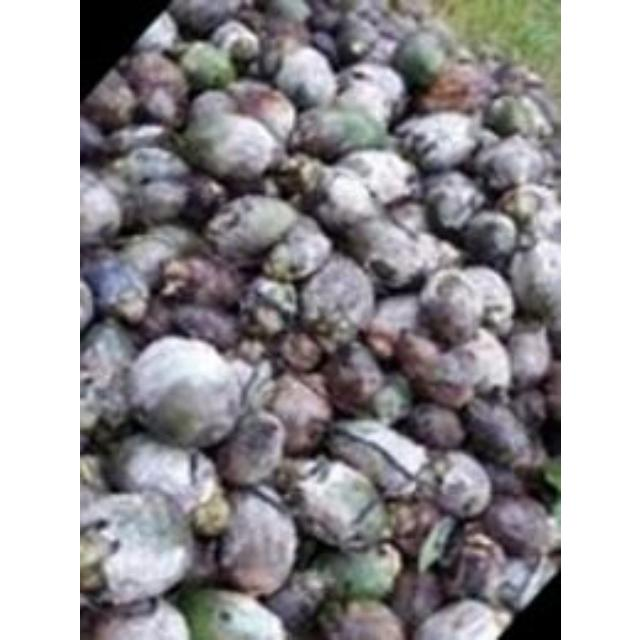damaged: (125, 334, 248, 448), (82, 490, 195, 604), (209, 484, 299, 592), (288, 456, 390, 550), (171, 102, 281, 188), (102, 433, 216, 512), (326, 418, 428, 498), (106, 146, 194, 228), (205, 194, 298, 266), (175, 586, 283, 640), (113, 223, 199, 290), (392, 110, 480, 173), (416, 448, 492, 520), (262, 376, 332, 452), (292, 106, 390, 160), (317, 342, 385, 414), (160, 252, 244, 310), (334, 150, 416, 207), (80, 251, 146, 321), (439, 530, 506, 598), (316, 544, 400, 598), (463, 398, 531, 464), (310, 168, 380, 232), (446, 330, 510, 400), (472, 134, 550, 190), (419, 172, 485, 238), (268, 44, 336, 108), (416, 274, 478, 342), (508, 240, 558, 324), (225, 82, 295, 142), (331, 65, 404, 122), (451, 264, 514, 330), (80, 319, 140, 385), (240, 278, 302, 340), (480, 496, 546, 554), (492, 552, 554, 612), (392, 28, 452, 88), (416, 61, 486, 112), (122, 48, 188, 102), (413, 600, 501, 640), (82, 68, 138, 130), (320, 598, 402, 640), (492, 182, 558, 234), (80, 370, 130, 438), (388, 498, 446, 556), (456, 208, 516, 264), (80, 173, 124, 247), (390, 568, 446, 624), (483, 92, 551, 138), (402, 401, 464, 451), (79, 486, 129, 546), (178, 40, 236, 91), (505, 324, 551, 388), (104, 120, 176, 160), (80, 522, 120, 594), (368, 293, 420, 345), (330, 12, 380, 66), (254, 8, 312, 48), (487, 60, 548, 98), (168, 0, 236, 34), (304, 310, 356, 354), (208, 19, 262, 61), (377, 6, 428, 50), (134, 298, 182, 344), (277, 328, 325, 372), (384, 198, 430, 242), (254, 36, 296, 84), (418, 374, 472, 410), (132, 11, 178, 53), (189, 88, 235, 124), (484, 462, 528, 498), (508, 459, 552, 495), (509, 389, 548, 429), (79, 114, 111, 162), (417, 17, 459, 53), (268, 460, 306, 498), (362, 326, 398, 362), (264, 1, 314, 26), (79, 452, 107, 493), (304, 3, 342, 33), (431, 238, 464, 272), (232, 335, 268, 365), (308, 29, 338, 62), (390, 1, 432, 20)
